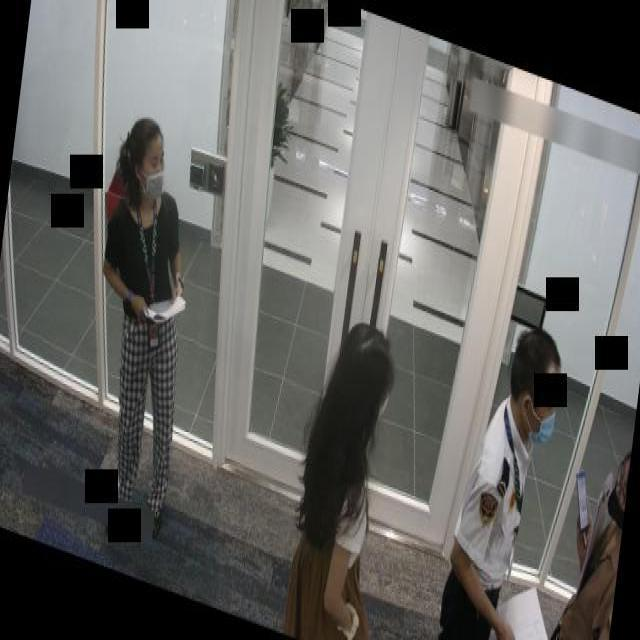hairnet: (606, 451, 634, 528)
